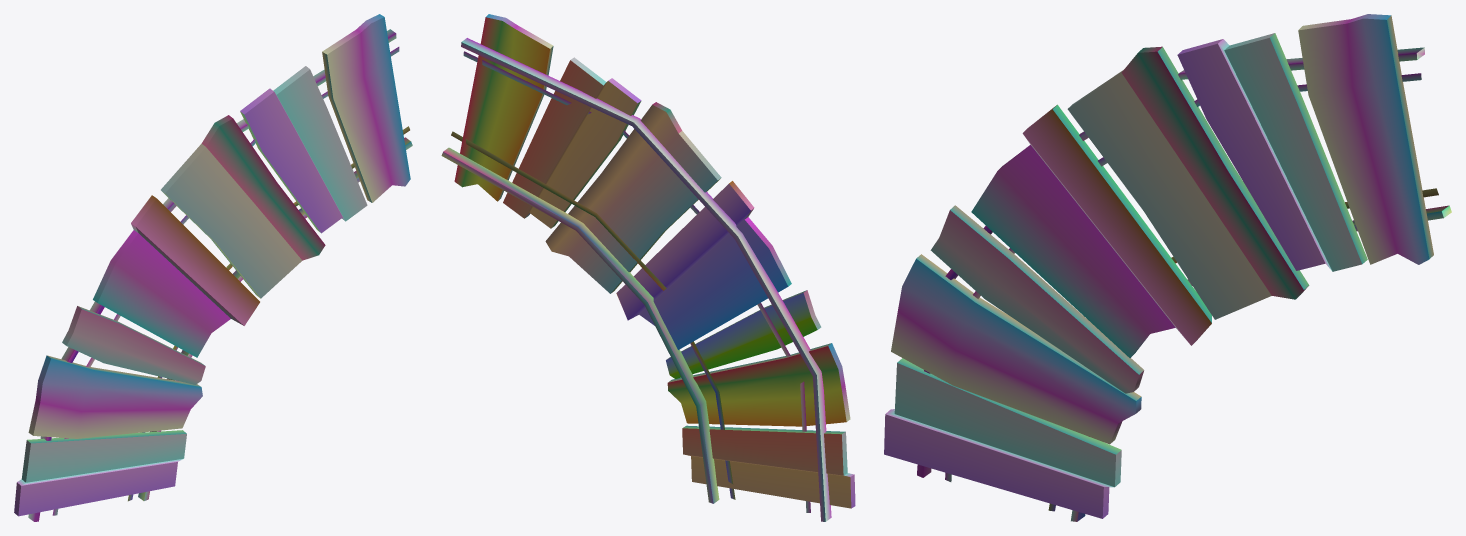
The model's file is Dock_CurveA.glb.
The picture shows the model from 3 angles, left to right: view 1: azimuth 30°, elevation 25°; view 2: azimuth 150°, elevation 25°; view 3: azimuth 330°, elevation 25°; orthographic projection. The views are drawn at different scales.
Visible parts, largest first — view 1: MeshNode_0; view 2: MeshNode_0; view 3: MeshNode_0.
Part boxes in pixels (box(x1,y1,x2,y2)): MeshNode_0: box(14, 14, 412, 521); MeshNode_0: box(441, 14, 855, 521); MeshNode_0: box(884, 14, 1451, 521).
Size of the model in its own units: 42.1 by 42.85 by 4.03.
